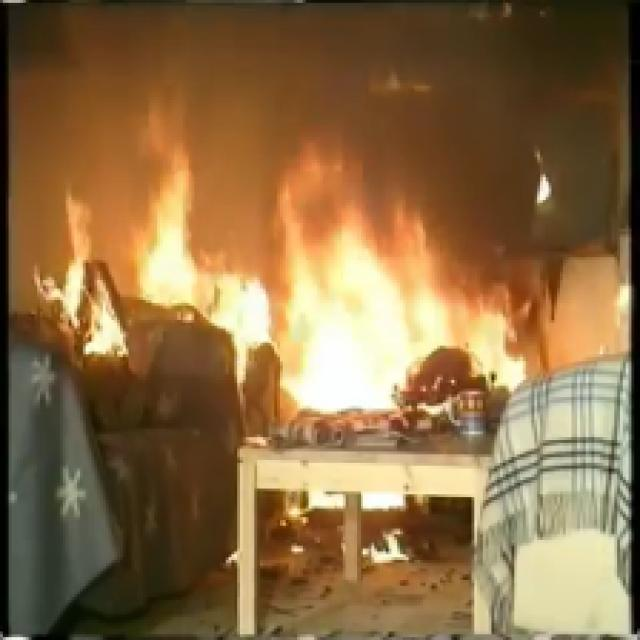Fire: (269, 198, 524, 401), (138, 96, 259, 346), (35, 185, 128, 362)
